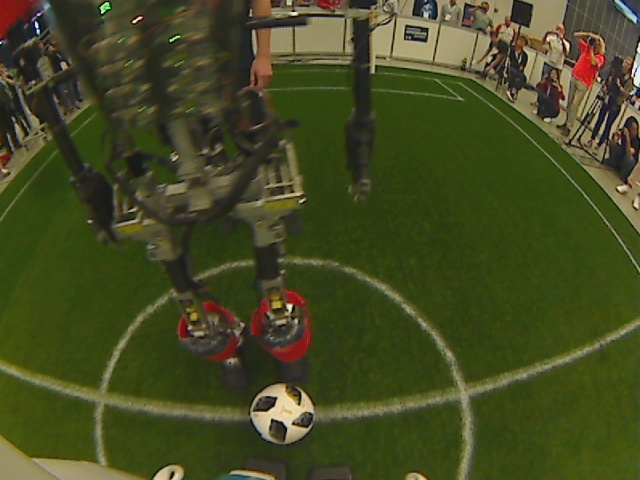ball: (246, 378, 319, 447)
